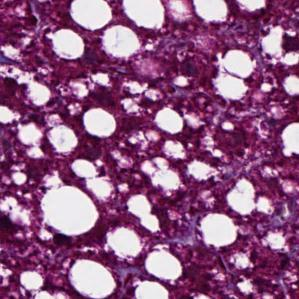ballooning: (42, 184, 100, 236), (214, 51, 259, 102), (67, 254, 116, 299), (200, 212, 239, 248), (67, 1, 114, 29), (101, 26, 140, 59), (49, 28, 86, 61), (105, 226, 143, 258), (145, 248, 183, 279), (82, 106, 116, 138), (155, 104, 184, 136)
